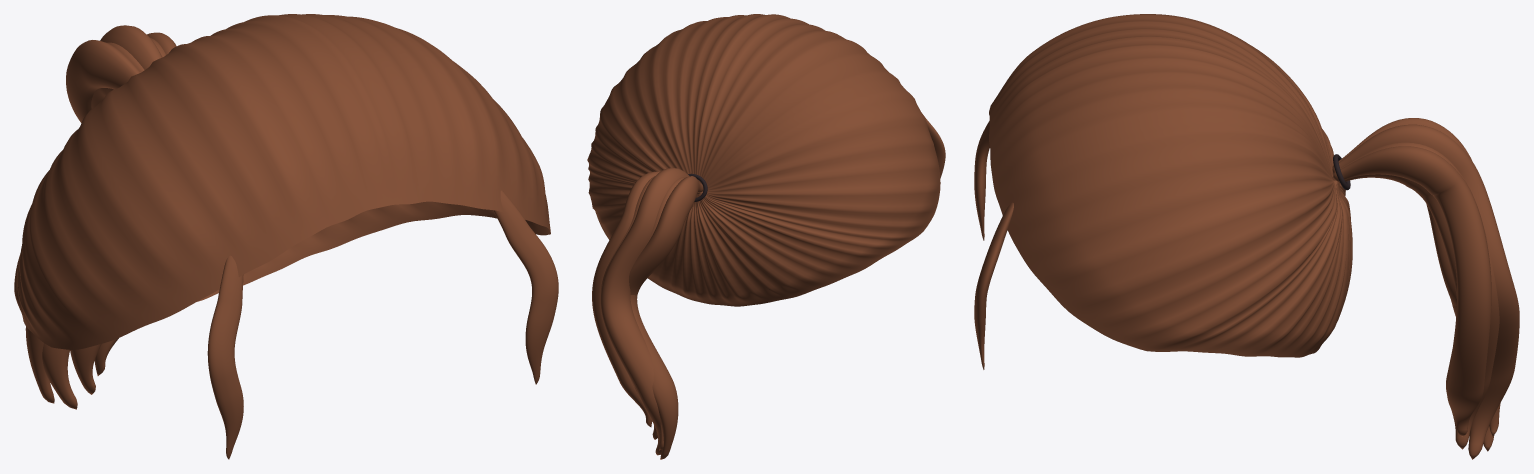
Rendered from Feminine-ponytail-cap-hair.glb.
3 renders of one model, left to right at view 1: azimuth 30°, elevation 25°; view 2: azimuth 150°, elevation 25°; view 3: azimuth 270°, elevation 25°, orthographic. The views are drawn at different scales.
Parts seen in each view (by area): view 1: Hair / swept roots220, Hair / adjustable front216 -1, Hair / adjustable front216 1, Hair / rounded tail220 0, Hair / rounded tail220 2, Hair / rounded tail220 1, Hair / rounded tail220 3, Hair / rounded tail220 4; view 2: Hair / swept roots220, Hair / rounded tail220 2, Hair / rounded tail220 0, Hair / rounded tail220 4, Hair / rounded tail220 1, Hair / adjustable front216 -1, Hair / rounded tail220 3; view 3: Hair / swept roots220, Hair / rounded tail220 4, Hair / rounded tail220 2, Hair / rounded tail220 3, Hair / adjustable front216 1, Hair / adjustable front216 -1, Hair / rounded tail220 1, Hair / rounded tail220 0.
Part boxes in pixels (left/top/right/bottom): Hair / swept roots220: left=14, top=14, right=550, bottom=349; Hair / adjustable front216 -1: left=207, top=255, right=243, bottom=459; Hair / adjustable front216 1: left=493, top=190, right=558, bottom=384; Hair / rounded tail220 0: left=66, top=40, right=140, bottom=122; Hair / rounded tail220 2: left=42, top=25, right=162, bottom=409; Hair / rounded tail220 1: left=25, top=42, right=144, bottom=403; Hair / rounded tail220 3: left=70, top=37, right=165, bottom=394; Hair / rounded tail220 4: left=94, top=32, right=176, bottom=375; Hair / swept roots220: left=587, top=14, right=940, bottom=306; Hair / rounded tail220 2: left=600, top=168, right=689, bottom=455; Hair / rounded tail220 0: left=629, top=176, right=703, bottom=450; Hair / rounded tail220 4: left=592, top=171, right=659, bottom=427; Hair / rounded tail220 1: left=630, top=177, right=699, bottom=459; Hair / adjustable front216 -1: left=921, top=112, right=945, bottom=178; Hair / rounded tail220 3: left=600, top=176, right=657, bottom=439; Hair / swept roots220: left=989, top=14, right=1352, bottom=357; Hair / rounded tail220 4: left=1332, top=146, right=1491, bottom=436; Hair / rounded tail220 2: left=1332, top=124, right=1519, bottom=459; Hair / rounded tail220 3: left=1334, top=142, right=1499, bottom=449; Hair / adjustable front216 1: left=974, top=202, right=1013, bottom=369; Hair / adjustable front216 -1: left=974, top=121, right=989, bottom=240; Hair / rounded tail220 1: left=1426, top=204, right=1494, bottom=451; Hair / rounded tail220 0: left=1332, top=118, right=1500, bottom=436.
Size of the model in its own units: 0.9754 by 0.9773 by 1.11.
